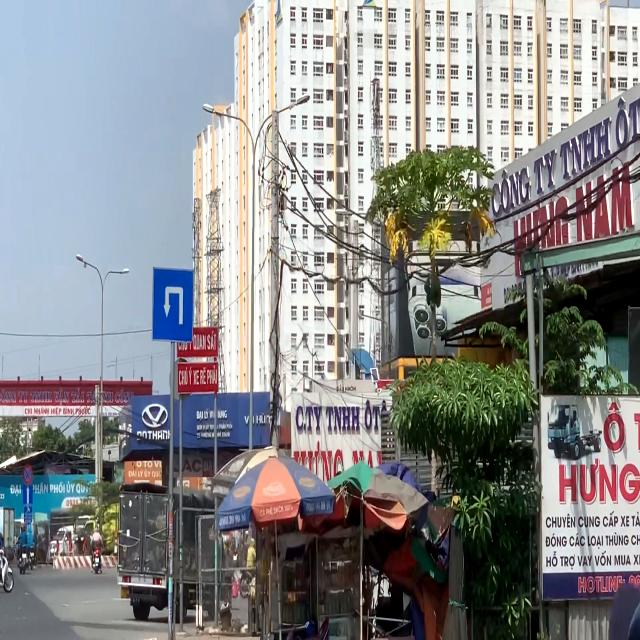R.409: (151, 266, 194, 344)
